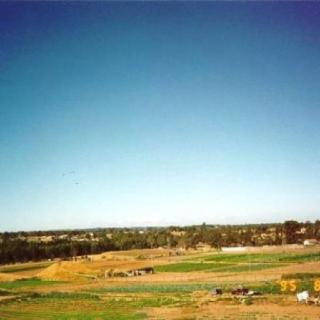Stratus: (0, 0, 320, 198)
